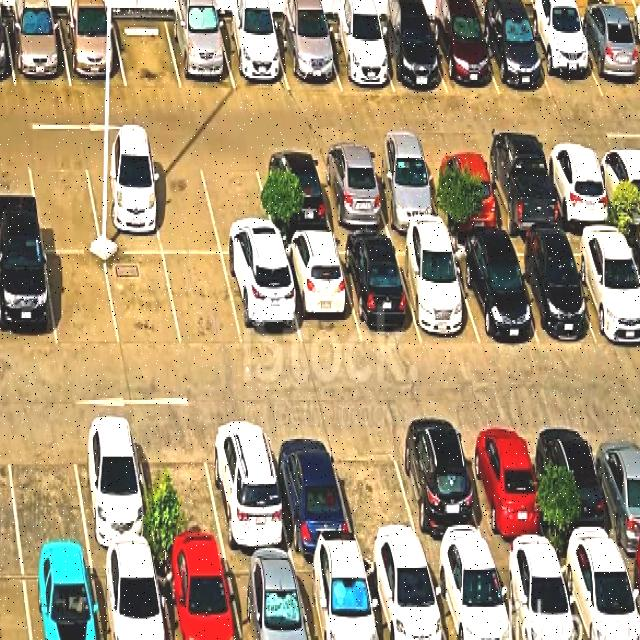empty: (329, 426, 423, 554), (136, 423, 225, 554), (4, 422, 88, 554), (199, 153, 277, 254), (145, 154, 220, 253), (164, 255, 243, 347), (105, 254, 181, 349), (27, 153, 101, 250), (45, 253, 119, 348), (113, 17, 181, 89)
occupied: (390, 424, 490, 555), (458, 423, 552, 554), (202, 421, 291, 554), (266, 425, 355, 553), (70, 421, 156, 553), (534, 422, 620, 553), (449, 241, 538, 345), (504, 241, 594, 343), (393, 240, 480, 344), (279, 240, 361, 347), (337, 239, 421, 343), (565, 234, 640, 341), (84, 154, 162, 253), (492, 555, 579, 640), (557, 551, 640, 640), (427, 555, 513, 640), (293, 556, 379, 640), (224, 557, 311, 640), (156, 556, 241, 640), (362, 556, 446, 640), (223, 256, 301, 346), (480, 151, 562, 234), (91, 555, 171, 640), (22, 555, 102, 640), (589, 422, 640, 550), (255, 153, 333, 236), (424, 152, 502, 232), (366, 152, 444, 231), (314, 153, 390, 234), (525, 21, 603, 99), (541, 149, 616, 228), (478, 18, 551, 96), (0, 247, 56, 348), (428, 18, 499, 95), (374, 21, 447, 93), (572, 21, 640, 97), (217, 19, 289, 90), (166, 18, 235, 90), (322, 23, 394, 92), (58, 17, 126, 87), (5, 17, 70, 87), (274, 23, 340, 90), (594, 148, 640, 226)
